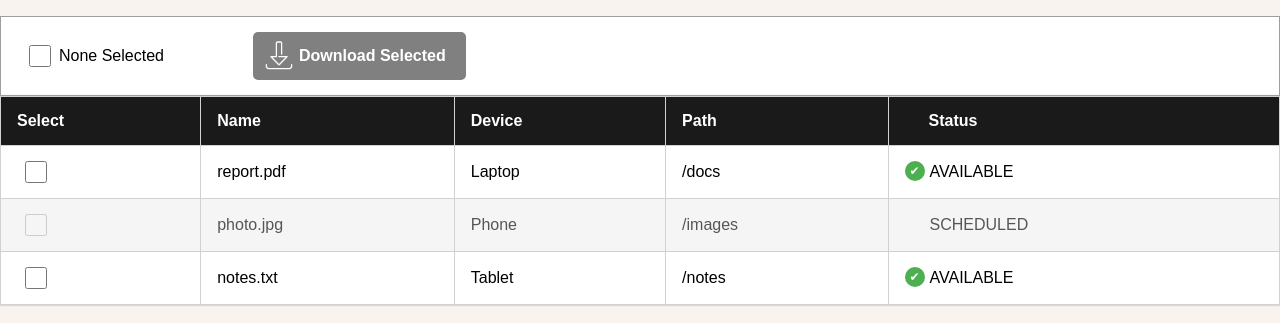
FileDownloader › selects all available files via master checkbox
The image size is (1280, 323).
Click the checkbox labelled "None Selected".
click(40, 56)  # box top-left (29, 45), bottom-right (51, 67)
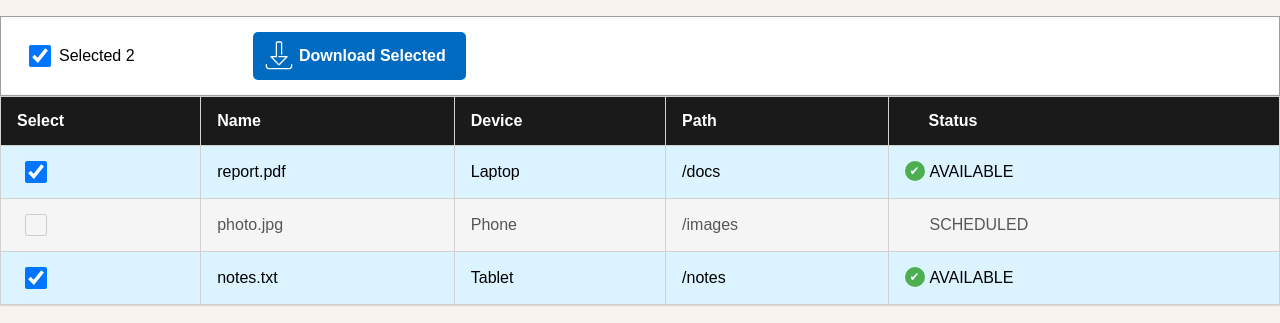
Check: the checkbox named "Select file: photo.jpg" is not checked, box top-left (25, 214), bottom-right (47, 236)
Check: the checkbox named "Select file: report.pdf" is checked, box top-left (25, 161), bottom-right (47, 183)
Check: the checkbox named "Select file: notes.txt" is checked, box top-left (25, 267), bottom-right (47, 289)
